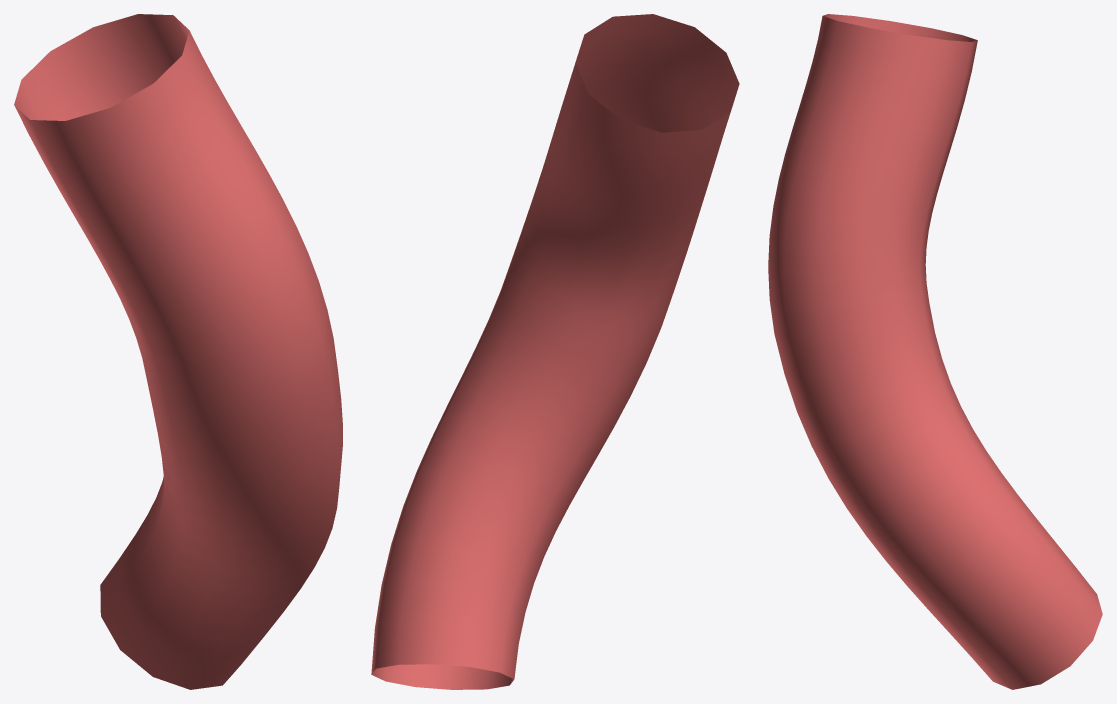
File: Internal_iliac_artery.r_BezierCurve.275.glb
3 renders of one model, left to right at view 1: azimuth 30°, elevation 25°; view 2: azimuth 150°, elevation 25°; view 3: azimuth 270°, elevation 25°, orthographic. The views are drawn at different scales.
Visible parts, largest first — view 1: Internal_iliac_artery.r_BezierCurve.275; view 2: Internal_iliac_artery.r_BezierCurve.275; view 3: Internal_iliac_artery.r_BezierCurve.275.
Part boxes in pixels (left/top/right/bottom): Internal_iliac_artery.r_BezierCurve.275: left=14, top=14, right=342, bottom=689; Internal_iliac_artery.r_BezierCurve.275: left=371, top=14, right=739, bottom=689; Internal_iliac_artery.r_BezierCurve.275: left=768, top=14, right=1102, bottom=689.
Size of the model in its own units: 0.0136 by 0.0297 by 0.0148.
